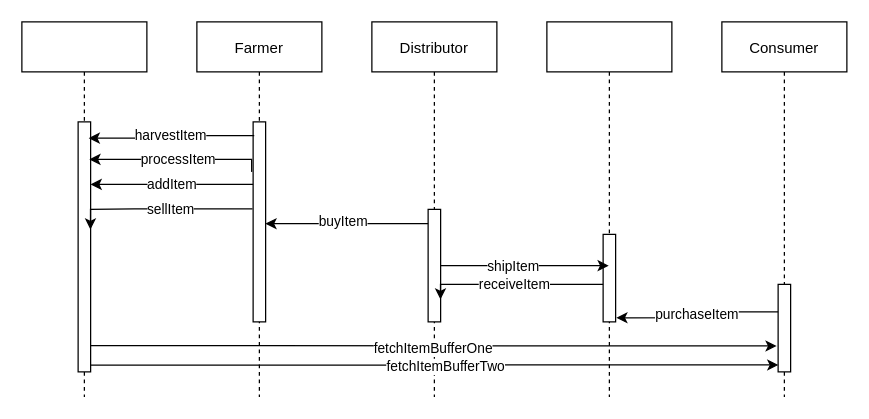
This 869x419 diagram has some shape labels left out. The shapes that lost their labels are listed below. From the top down, each one's box as (x1, y1, x2, y2) in pixels, then its label:
(21, 21, 147, 397): Coffee Beans
(546, 21, 672, 397): Retailer
